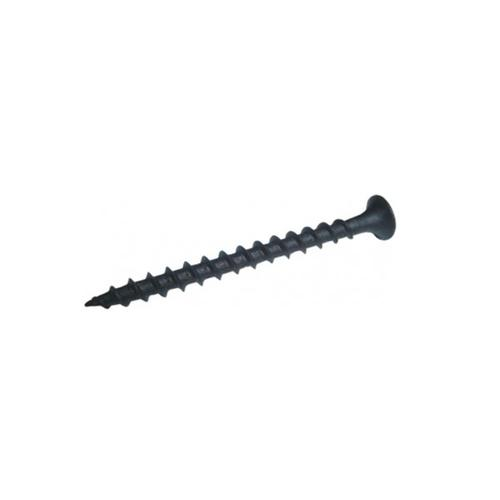Tornillo: (81, 192, 400, 312)
